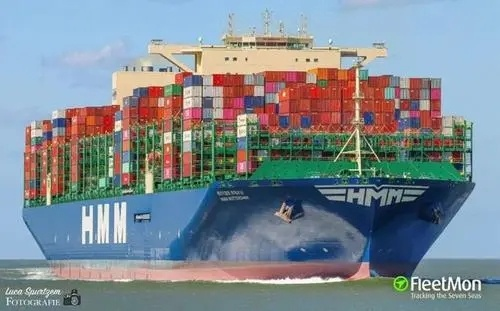Cargoship: (9, 13, 474, 276)
